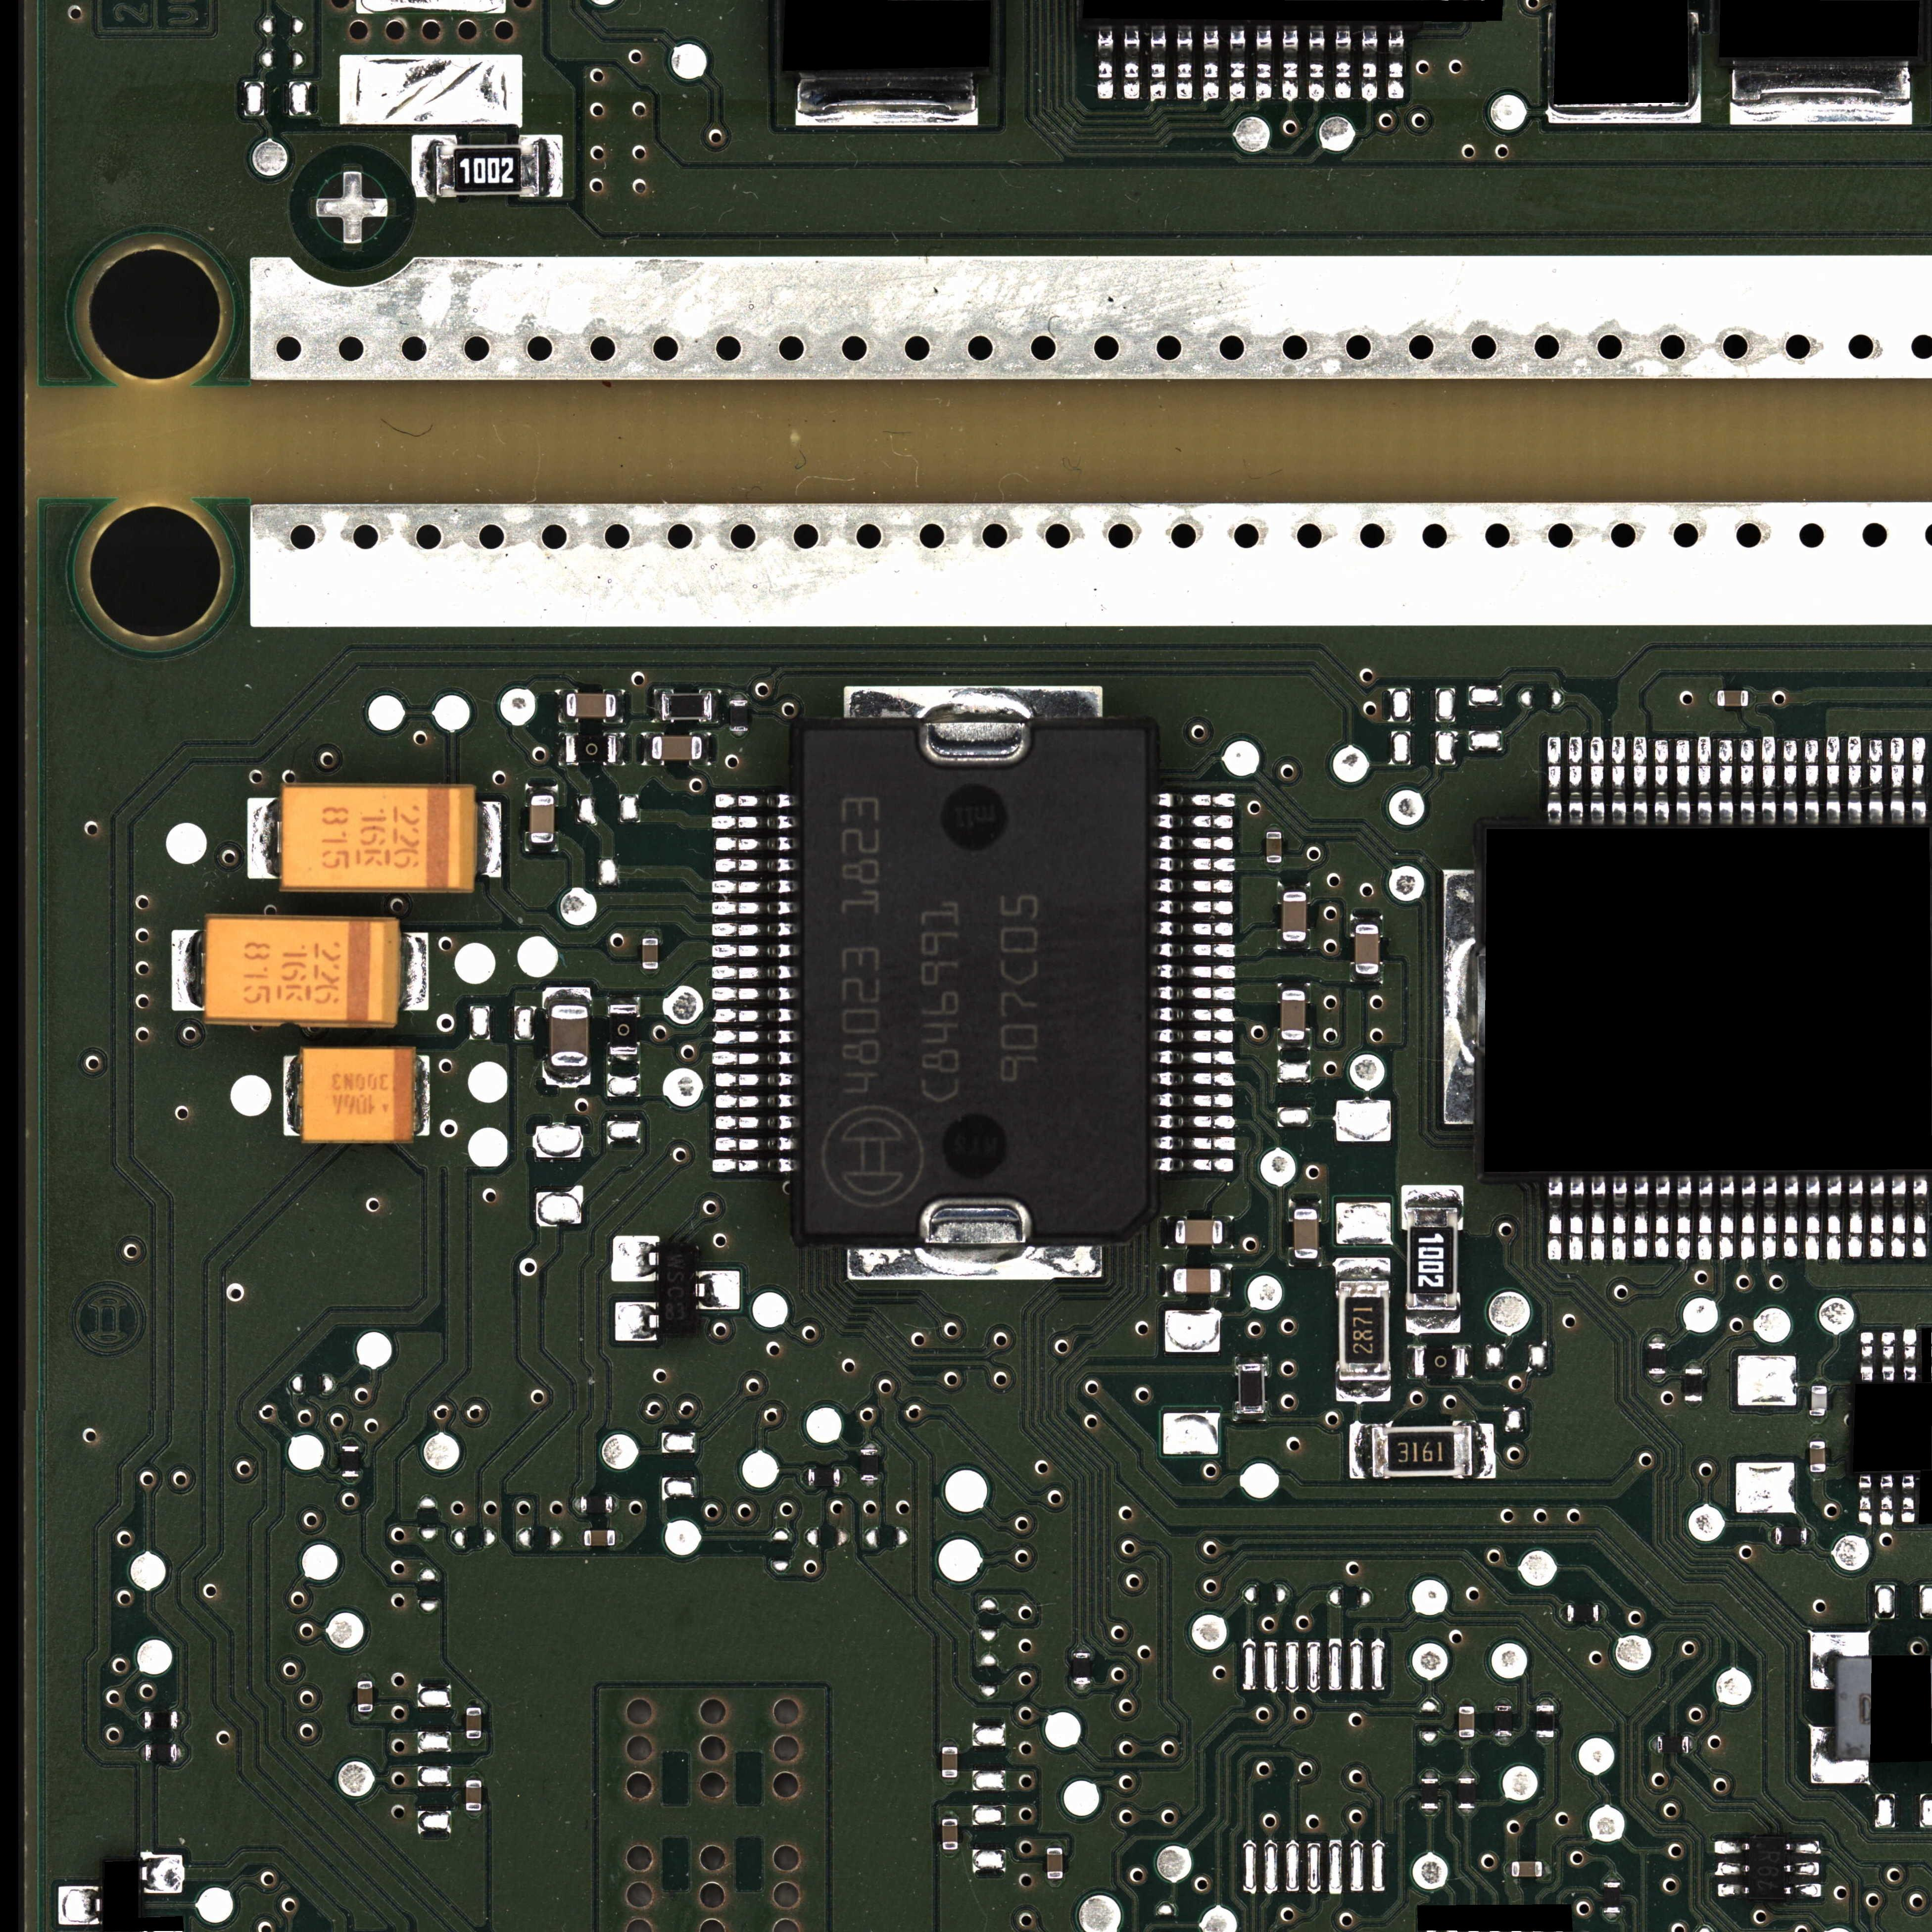Package: (803, 731, 1148, 1237), (283, 784, 476, 890), (207, 918, 398, 1023), (301, 1049, 414, 1141), (1405, 1208, 1460, 1311), (437, 143, 540, 196), (1373, 1426, 1472, 1477), (1339, 1281, 1389, 1380), (658, 1244, 695, 1334), (550, 1005, 587, 1067), (1750, 1835, 1785, 1898), (566, 736, 616, 764), (1415, 1348, 1465, 1376), (662, 694, 711, 720), (610, 1005, 637, 1054), (651, 736, 702, 761), (1175, 1219, 1223, 1246), (566, 694, 616, 718), (1281, 991, 1306, 1040), (1238, 1364, 1263, 1414), (1293, 1208, 1318, 1258), (1173, 1269, 1221, 1293), (1283, 892, 1306, 941), (1355, 925, 1378, 973), (531, 796, 554, 842), (1684, 1368, 1704, 1401), (341, 1445, 361, 1477), (860, 1449, 879, 1481), (1647, 1343, 1667, 1375), (1072, 1652, 1092, 1684), (1536, 1706, 1555, 1737), (145, 1744, 179, 1762), (1656, 1736, 1690, 1753), (731, 701, 748, 732), (145, 1711, 177, 1729), (809, 1468, 840, 1486), (580, 1495, 612, 1513), (1568, 1605, 1599, 1622), (1495, 1706, 1513, 1737), (1775, 1527, 1806, 1545), (1421, 1778, 1438, 1808), (1603, 1882, 1621, 1913), (1458, 1778, 1476, 1808), (642, 938, 658, 970), (584, 1530, 616, 1546), (357, 1681, 373, 1713), (941, 1746, 957, 1778), (1267, 832, 1283, 863), (1511, 1861, 1543, 1877), (465, 1707, 481, 1737), (465, 1780, 481, 1810), (943, 1819, 959, 1849), (1718, 690, 1748, 706), (1458, 1707, 1474, 1737), (1047, 1849, 1063, 1879), (1810, 1442, 1826, 1472)
Solder: (844, 685, 1104, 731), (1727, 65, 1918, 126), (847, 1238, 1102, 1281), (1440, 869, 1476, 1125), (793, 78, 982, 126), (1808, 1631, 1870, 1690), (1810, 1725, 1870, 1783), (172, 929, 207, 1012), (248, 798, 281, 879), (1543, 108, 1702, 122), (400, 932, 428, 1010), (612, 1237, 658, 1281), (140, 1851, 186, 1893), (478, 801, 501, 878), (1200, 23, 1221, 103), (1651, 736, 1670, 823), (616, 1302, 658, 1341), (697, 1270, 740, 1309), (58, 1886, 101, 1925), (1845, 734, 1863, 824), (1759, 734, 1776, 824), (1674, 734, 1691, 824), (1568, 734, 1585, 824), (1589, 734, 1606, 824), (1629, 734, 1647, 824), (1695, 736, 1713, 824), (1610, 736, 1628, 824), (1911, 736, 1928, 823), (1824, 736, 1842, 823), (1739, 736, 1757, 823), (1718, 738, 1736, 824), (1307, 25, 1327, 103), (1254, 25, 1274, 103), (1228, 25, 1247, 103), (1122, 25, 1141, 103), (713, 1007, 798, 1024), (1890, 738, 1907, 823), (1867, 738, 1884, 823), (1803, 738, 1821, 823), (1780, 738, 1798, 823), (1359, 25, 1378, 101), (1332, 25, 1352, 101), (1281, 25, 1300, 101), (1095, 25, 1115, 101), (1148, 25, 1168, 101), (1175, 25, 1194, 101), (713, 964, 796, 982), (1152, 878, 1235, 895), (412, 134, 435, 198), (540, 134, 563, 198), (713, 814, 794, 832), (715, 1136, 796, 1154), (1154, 941, 1235, 959), (1154, 1070, 1235, 1088), (1154, 1007, 1235, 1024), (1154, 1049, 1235, 1067), (1546, 734, 1562, 824), (1401, 1185, 1463, 1208), (283, 1056, 301, 1136), (1155, 791, 1235, 809), (1154, 920, 1233, 938), (1155, 812, 1233, 830), (711, 922, 796, 938), (713, 943, 798, 959), (711, 901, 796, 916), (711, 985, 796, 1001), (1546, 1177, 1562, 1261), (1568, 1177, 1583, 1261), (1589, 1177, 1605, 1261), (1610, 1177, 1626, 1261), (1654, 1177, 1670, 1261), (1675, 1177, 1691, 1261), (1697, 1177, 1713, 1261), (1741, 1177, 1757, 1261), (1762, 1177, 1778, 1261), (1783, 1177, 1799, 1261), (713, 858, 796, 874), (713, 879, 796, 895), (713, 1051, 796, 1067), (715, 1072, 798, 1088), (713, 1157, 796, 1173), (713, 1030, 796, 1046), (1152, 1115, 1235, 1131), (1152, 985, 1235, 1001), (1633, 1177, 1649, 1260), (1720, 1177, 1736, 1260), (1805, 1177, 1821, 1260), (1826, 1177, 1842, 1260), (1870, 1177, 1886, 1260), (1890, 1177, 1905, 1260), (1387, 25, 1405, 99), (414, 1054, 430, 1136), (715, 837, 796, 853), (715, 1115, 796, 1131), (715, 1093, 796, 1109), (1154, 856, 1235, 872), (1154, 964, 1235, 980), (1154, 1136, 1235, 1152), (715, 793, 794, 809), (1155, 835, 1235, 851), (1154, 899, 1233, 915), (1154, 1157, 1233, 1173), (1154, 1028, 1233, 1044), (1154, 1093, 1233, 1109), (1407, 1311, 1461, 1334), (1849, 1175, 1863, 1260), (1913, 1177, 1927, 1260), (1336, 1258, 1391, 1279), (1350, 1426, 1371, 1479), (1474, 1426, 1495, 1477), (1336, 1382, 1391, 1401), (543, 1067, 591, 1086), (543, 987, 591, 1005), (1902, 1329, 1918, 1382), (1900, 1476, 1916, 1525), (1879, 1476, 1895, 1525), (1859, 1330, 1874, 1382), (1881, 1330, 1895, 1382), (1858, 1476, 1872, 1525), (1714, 1840, 1750, 1854), (1785, 1840, 1821, 1854), (1785, 1861, 1819, 1875), (1716, 1861, 1748, 1875), (1785, 1884, 1821, 1897), (1718, 1882, 1748, 1897), (1223, 1215, 1233, 1249), (1221, 1265, 1231, 1297), (1164, 1217, 1175, 1249), (527, 784, 557, 794), (609, 994, 639, 1005), (642, 732, 651, 766), (1277, 941, 1311, 950), (1233, 1414, 1267, 1422), (1465, 1345, 1474, 1378), (653, 690, 662, 722), (557, 690, 566, 722), (702, 732, 711, 764), (711, 690, 720, 722), (525, 844, 557, 853), (616, 690, 625, 722), (1279, 883, 1311, 892), (1164, 1265, 1173, 1297), (1235, 1355, 1267, 1364), (1277, 1040, 1309, 1049), (557, 734, 566, 764), (609, 1054, 639, 1063), (1352, 915, 1382, 924), (1290, 1258, 1320, 1267), (1292, 1200, 1320, 1208), (617, 732, 625, 766), (1407, 1346, 1414, 1378), (1352, 975, 1382, 982), (729, 692, 748, 701), (1647, 1334, 1667, 1343), (1279, 984, 1309, 989), (1421, 1769, 1438, 1778), (1458, 1769, 1476, 1778), (1709, 690, 1718, 706), (1605, 1874, 1621, 1882), (1810, 1433, 1826, 1442), (179, 1743, 186, 1762), (1072, 1684, 1092, 1691), (1647, 1375, 1667, 1382), (341, 1438, 359, 1445), (177, 1711, 184, 1729), (138, 1744, 145, 1762), (731, 731, 748, 738), (642, 931, 660, 938), (941, 1851, 959, 1858), (1684, 1401, 1702, 1408), (1684, 1362, 1702, 1369), (1460, 1698, 1474, 1707), (1599, 1605, 1606, 1622), (1458, 1808, 1476, 1815), (1688, 1736, 1695, 1753), (1603, 1913, 1621, 1920), (1495, 1736, 1513, 1743), (465, 1773, 481, 1780), (465, 1700, 481, 1707), (862, 1442, 878, 1449), (941, 1739, 957, 1746), (941, 1812, 957, 1819), (1047, 1840, 1063, 1847), (1047, 1879, 1063, 1886), (1074, 1645, 1090, 1652), (1748, 690, 1755, 706), (1810, 1415, 1826, 1422), (1810, 1472, 1826, 1479), (1651, 1736, 1658, 1752), (1537, 1698, 1553, 1706), (1560, 1605, 1568, 1621), (1495, 1698, 1511, 1706), (1543, 1861, 1550, 1877), (357, 1674, 372, 1681), (573, 1497, 580, 1511), (1806, 1529, 1813, 1543), (341, 1477, 359, 1483), (138, 1711, 143, 1729), (840, 1468, 846, 1486), (1421, 1810, 1438, 1815), (357, 1713, 373, 1718), (465, 1739, 481, 1744), (465, 1812, 481, 1817), (642, 970, 658, 975), (801, 1470, 807, 1486), (579, 1530, 584, 1546), (862, 1481, 878, 1486), (612, 1497, 617, 1513), (941, 1778, 957, 1783), (1812, 1380, 1828, 1385), (1537, 1737, 1553, 1743), (1506, 1861, 1511, 1877), (1769, 1529, 1775, 1545), (616, 1530, 621, 1545), (1267, 826, 1281, 832), (1267, 863, 1281, 869), (1460, 1737, 1474, 1743)
